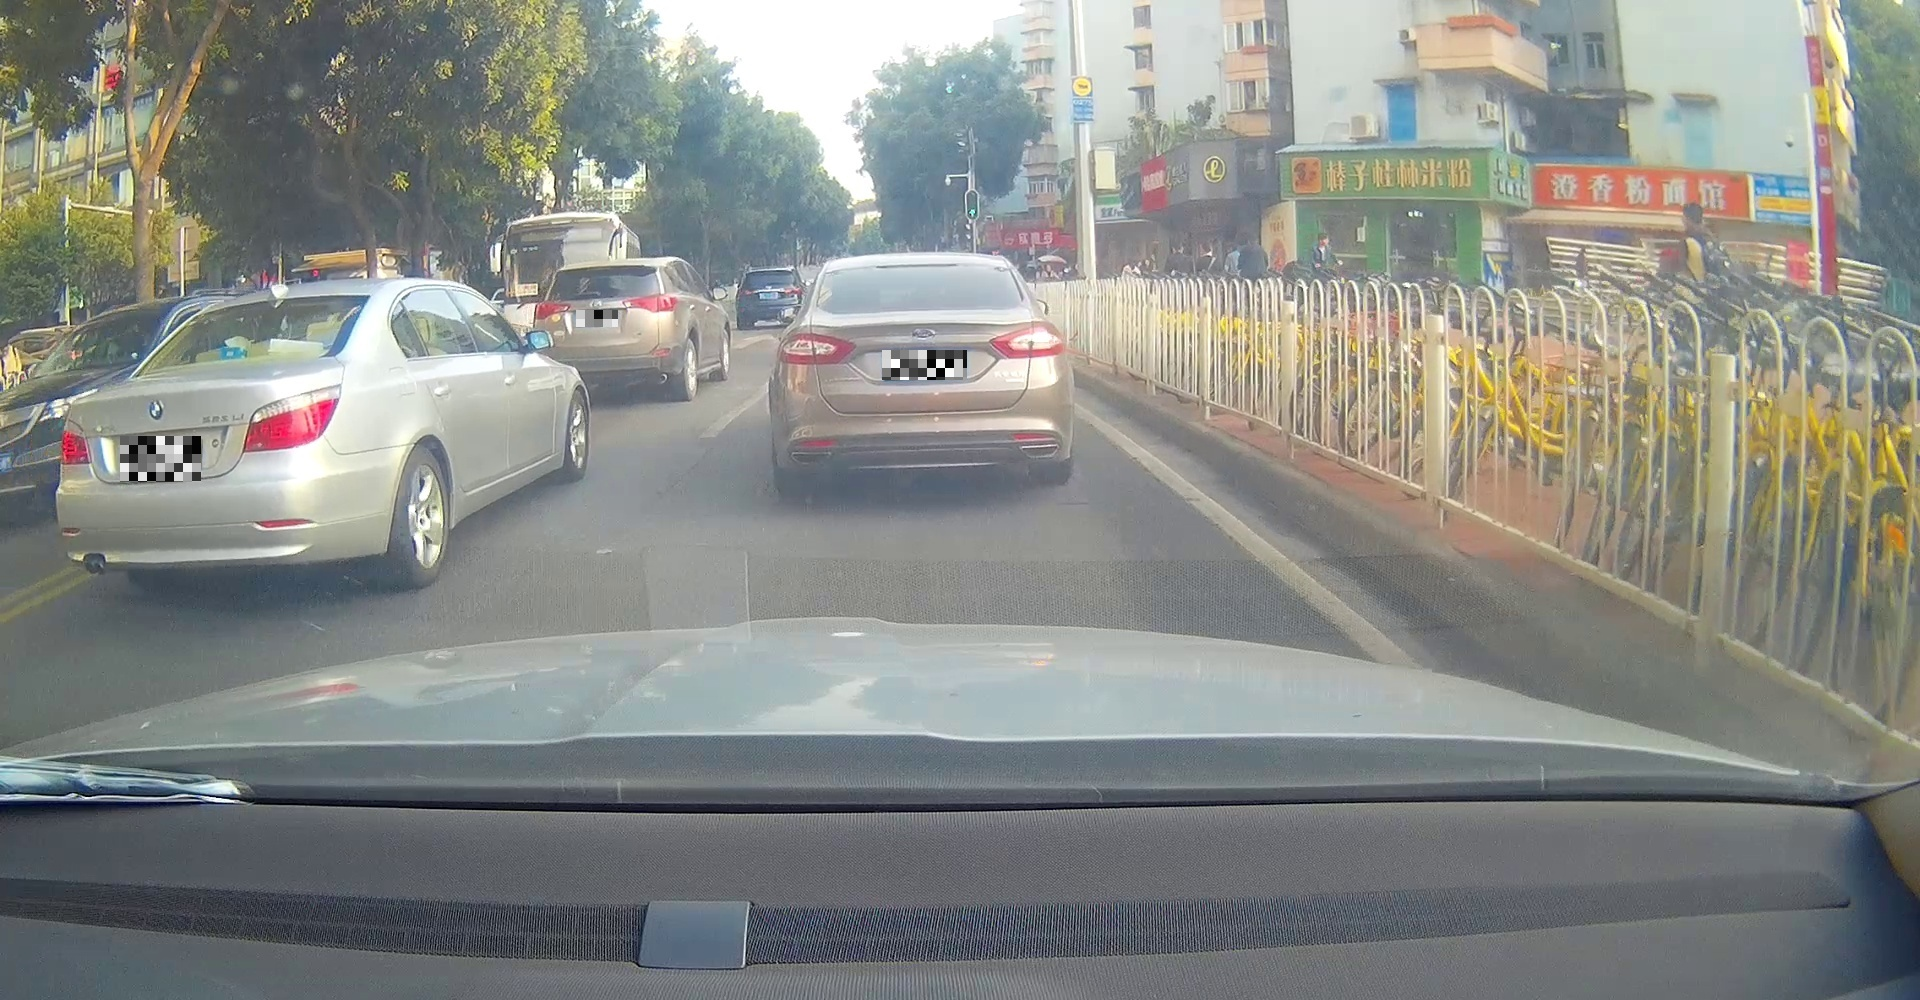L_light: (776, 332, 856, 365), (58, 420, 91, 466), (533, 299, 570, 320)
R_light: (241, 385, 342, 453), (988, 321, 1064, 359), (622, 294, 678, 313)
T_light: (257, 301, 293, 311), (895, 266, 935, 273), (590, 268, 617, 274)
day-no: (55, 278, 372, 594), (771, 253, 1073, 497), (532, 258, 681, 402)
plate_1: (119, 437, 201, 482)
plate_2: (577, 310, 618, 327)
plate_3: (883, 350, 968, 379)
